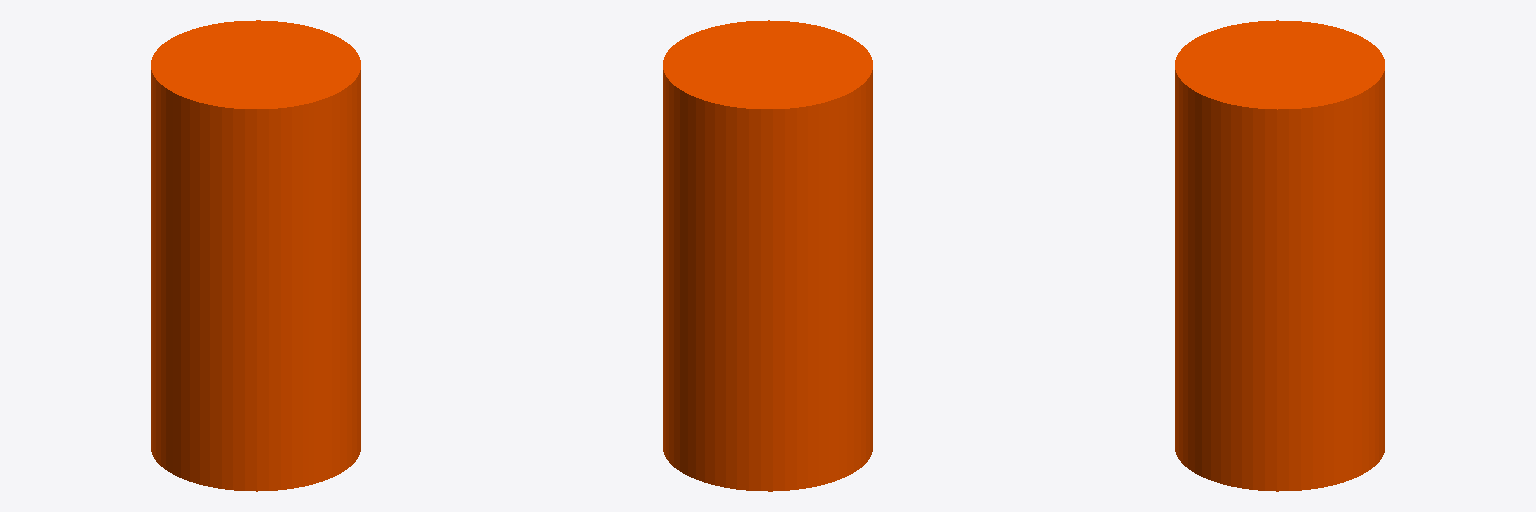
The robot description file, URDF, robot "objects":
<?xml  version="1.0"?>
<robot name ="objects"> 
    <!-- Author: [author]; e-mail:[email redacted]. The urdf file was develped in tongji university.-->

    <!--create  color params-->
    <material name ="LightGrey">
        <color rgba="0.7 0.7 0.7 1.0"/>
    </material>

    <material name ="White">
        <color rgba="1 1 1 1.0"/>
    </material>

    <material name ="Green">
        <color rgba="0.1. 0. 1.0 1.0"/>
    </material>

    <material name ="Yellw">
        <color rgba="1. 1. 0. 1.0"/>
    </material>

    <material name ="Orange">
        <color rgba="1. 0.38 0. 1.0"/>
    </material>

    <material name ="Blue">
        <color rgba="0.69 0.87 0.9 1.0"/>
    </material>

    <mass name ="table_mass">
        <mass value="1.0"/>
    </mass>

    <mass name ="cylander_mass">
        <mass value="2.0"/>
    </mass>



    <link  name ="World"/>

    <joint name="cylinder1_to_world" type="floating">
        <parent link="World"/>
        <child link="cylinder1"/>
        <origin xyz="0. 0. 0." rpy="0.0 0.0 0.0"/>
    </joint>

    <link name = "cylinder1">
        <contact>
            <lateral_friction value="0.05"/>
            <rolling_friction value="0.0"/>
            <contact_erp value="1.0"/>
        </contact>
        <visual>
            <origin  xyz="0.0 0.0 0.0" rpy="0.0 0.0 0.0"/>
            <geometry>
                <mesh filename = "meshes/cylinder.dae"/>
            </geometry >
            <material name ="Orange"/>
        </visual>
        <collision>
            <origin xyz="0.0 0.0 0.0" rpy="0.0 0.0 0.0"/>
            <geometry>
                <mesh filename ="meshes/cylinder.dae"/>
            </geometry>
        </collision>
        <inertial>
            <mass value = "0.5"/>
            <inertia ixx="1" ixy="0.0" ixz="0.0" iyy="1" iyz="0.0" izz="1"/>
        </inertial>
    </link>
</robot>

--- What the picture shows (computed from the rendered views, not written in the file) ---
The picture shows the robot from 3 angles, left to right: view 1: azimuth 30°, elevation 25°; view 2: azimuth 150°, elevation 25°; view 3: azimuth 270°, elevation 25°; orthographic projection.
Model objects with 2 links and 1 joints (1 floating), rooted at World, posed every joint at zero.
Visible links, largest first — view 1: cylinder1; view 2: cylinder1; view 3: cylinder1.
Link boxes in pixels (x1=…): cylinder1: x1=151, y1=20, x2=360, y2=491; cylinder1: x1=663, y1=20, x2=872, y2=491; cylinder1: x1=1175, y1=20, x2=1384, y2=491.
Size in the robot's own frame: 0.1 by 0.1 by 0.2 metres.
1 mesh visuals loaded from 1 distinct referenced files (1 Collada DAE).